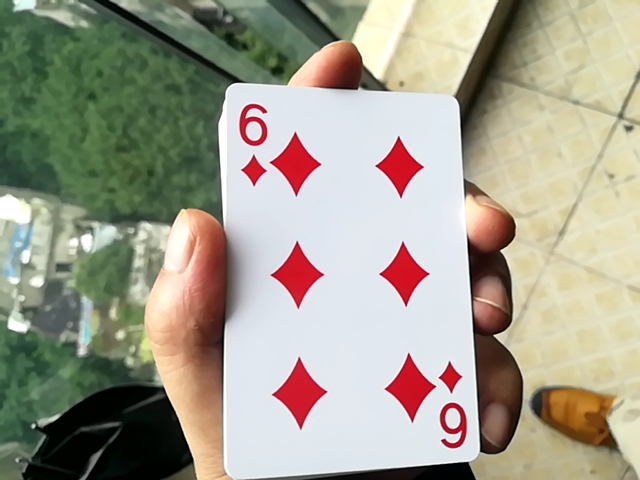fk 6: (207, 72, 477, 480)
